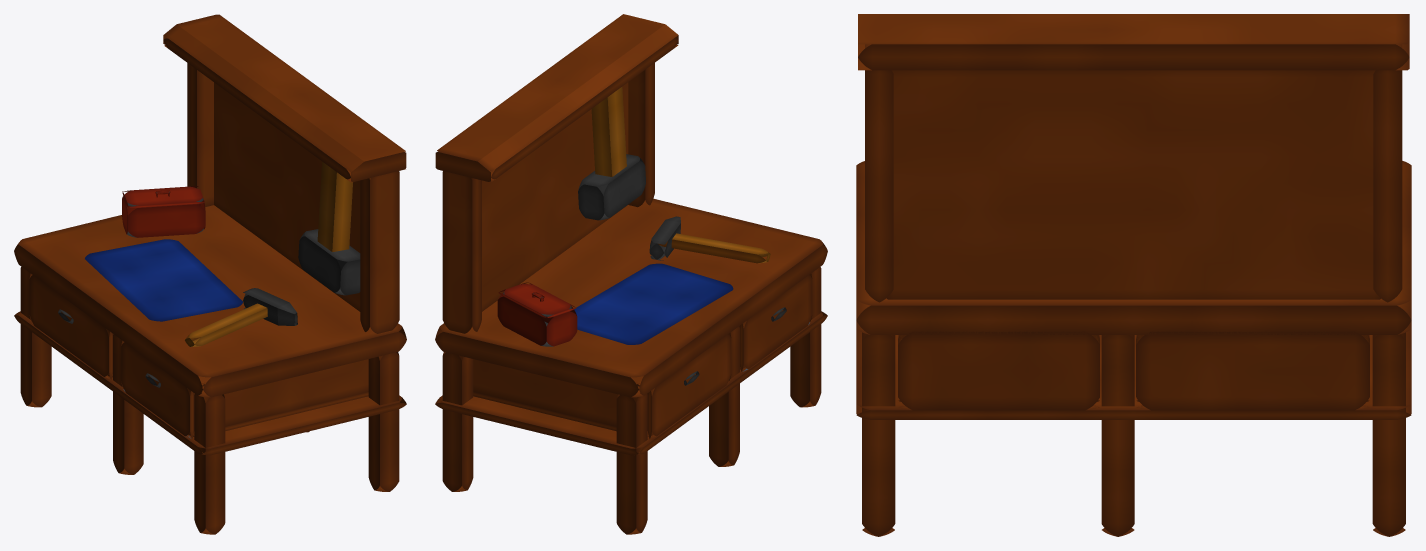
Rendered from workbench.fbx.
The picture shows the model from 3 angles, left to right: view 1: azimuth 30°, elevation 25°; view 2: azimuth 150°, elevation 25°; view 3: azimuth 270°, elevation 25°; orthographic projection. The views are drawn at different scales.
Visible parts, largest first — view 1: cube_4, cube, cube_5, plan, cube_32, cube_19, cube_9, cube_16, cube_28, cube_29, cube_11, cube_6 (+9 smaller); view 2: cube_4, cube, cube_5, plan, cube_6, cube_19, cube_15, cube_16, cube_12, cube_27, cube_11, cube_32 (+9 smaller); view 3: cube_5, cube, cube_4, cube_13, cube_7, cube_19, cube_6, cube_32, cube_27, cube_29, cube_31.
Boxes of the visible parts, x1,y1,x2,y2 form: cube_4: (14,205,406,397); cube: (163,14,406,182); cube_5: (214,82,360,311); plan: (85,239,242,321); cube_32: (360,171,399,333); cube_19: (14,311,406,455); cube_9: (194,359,368,426); cube_16: (29,273,112,379); cube_28: (194,384,225,534); cube_29: (368,352,399,491); cube_11: (121,340,194,438); cube_6: (187,63,213,206); cube_4: (435,198,827,397); cube: (435,14,678,181); cube_5: (482,82,628,311); plan: (574,263,733,344); cube_6: (442,171,481,333); cube_19: (435,311,827,455); cube_15: (473,359,647,426); cube_16: (647,333,731,438); cube_12: (616,384,647,534); cube_27: (442,352,473,491); cube_11: (739,274,812,371); cube_32: (628,63,654,207); cube_5: (886,70,1380,299); cube: (858,14,1409,70); cube_4: (856,161,1411,334); cube_13: (1136,331,1369,410); cube_7: (898,331,1099,410); cube_19: (856,329,1411,419); cube_6: (1373,44,1402,302); cube_32: (865,44,893,302); cube_27: (1372,332,1405,536); cube_29: (862,332,895,536); cube_31: (1101,335,1134,536).
Bounding box in the file's own units: 75.78 × 119 × 120.
